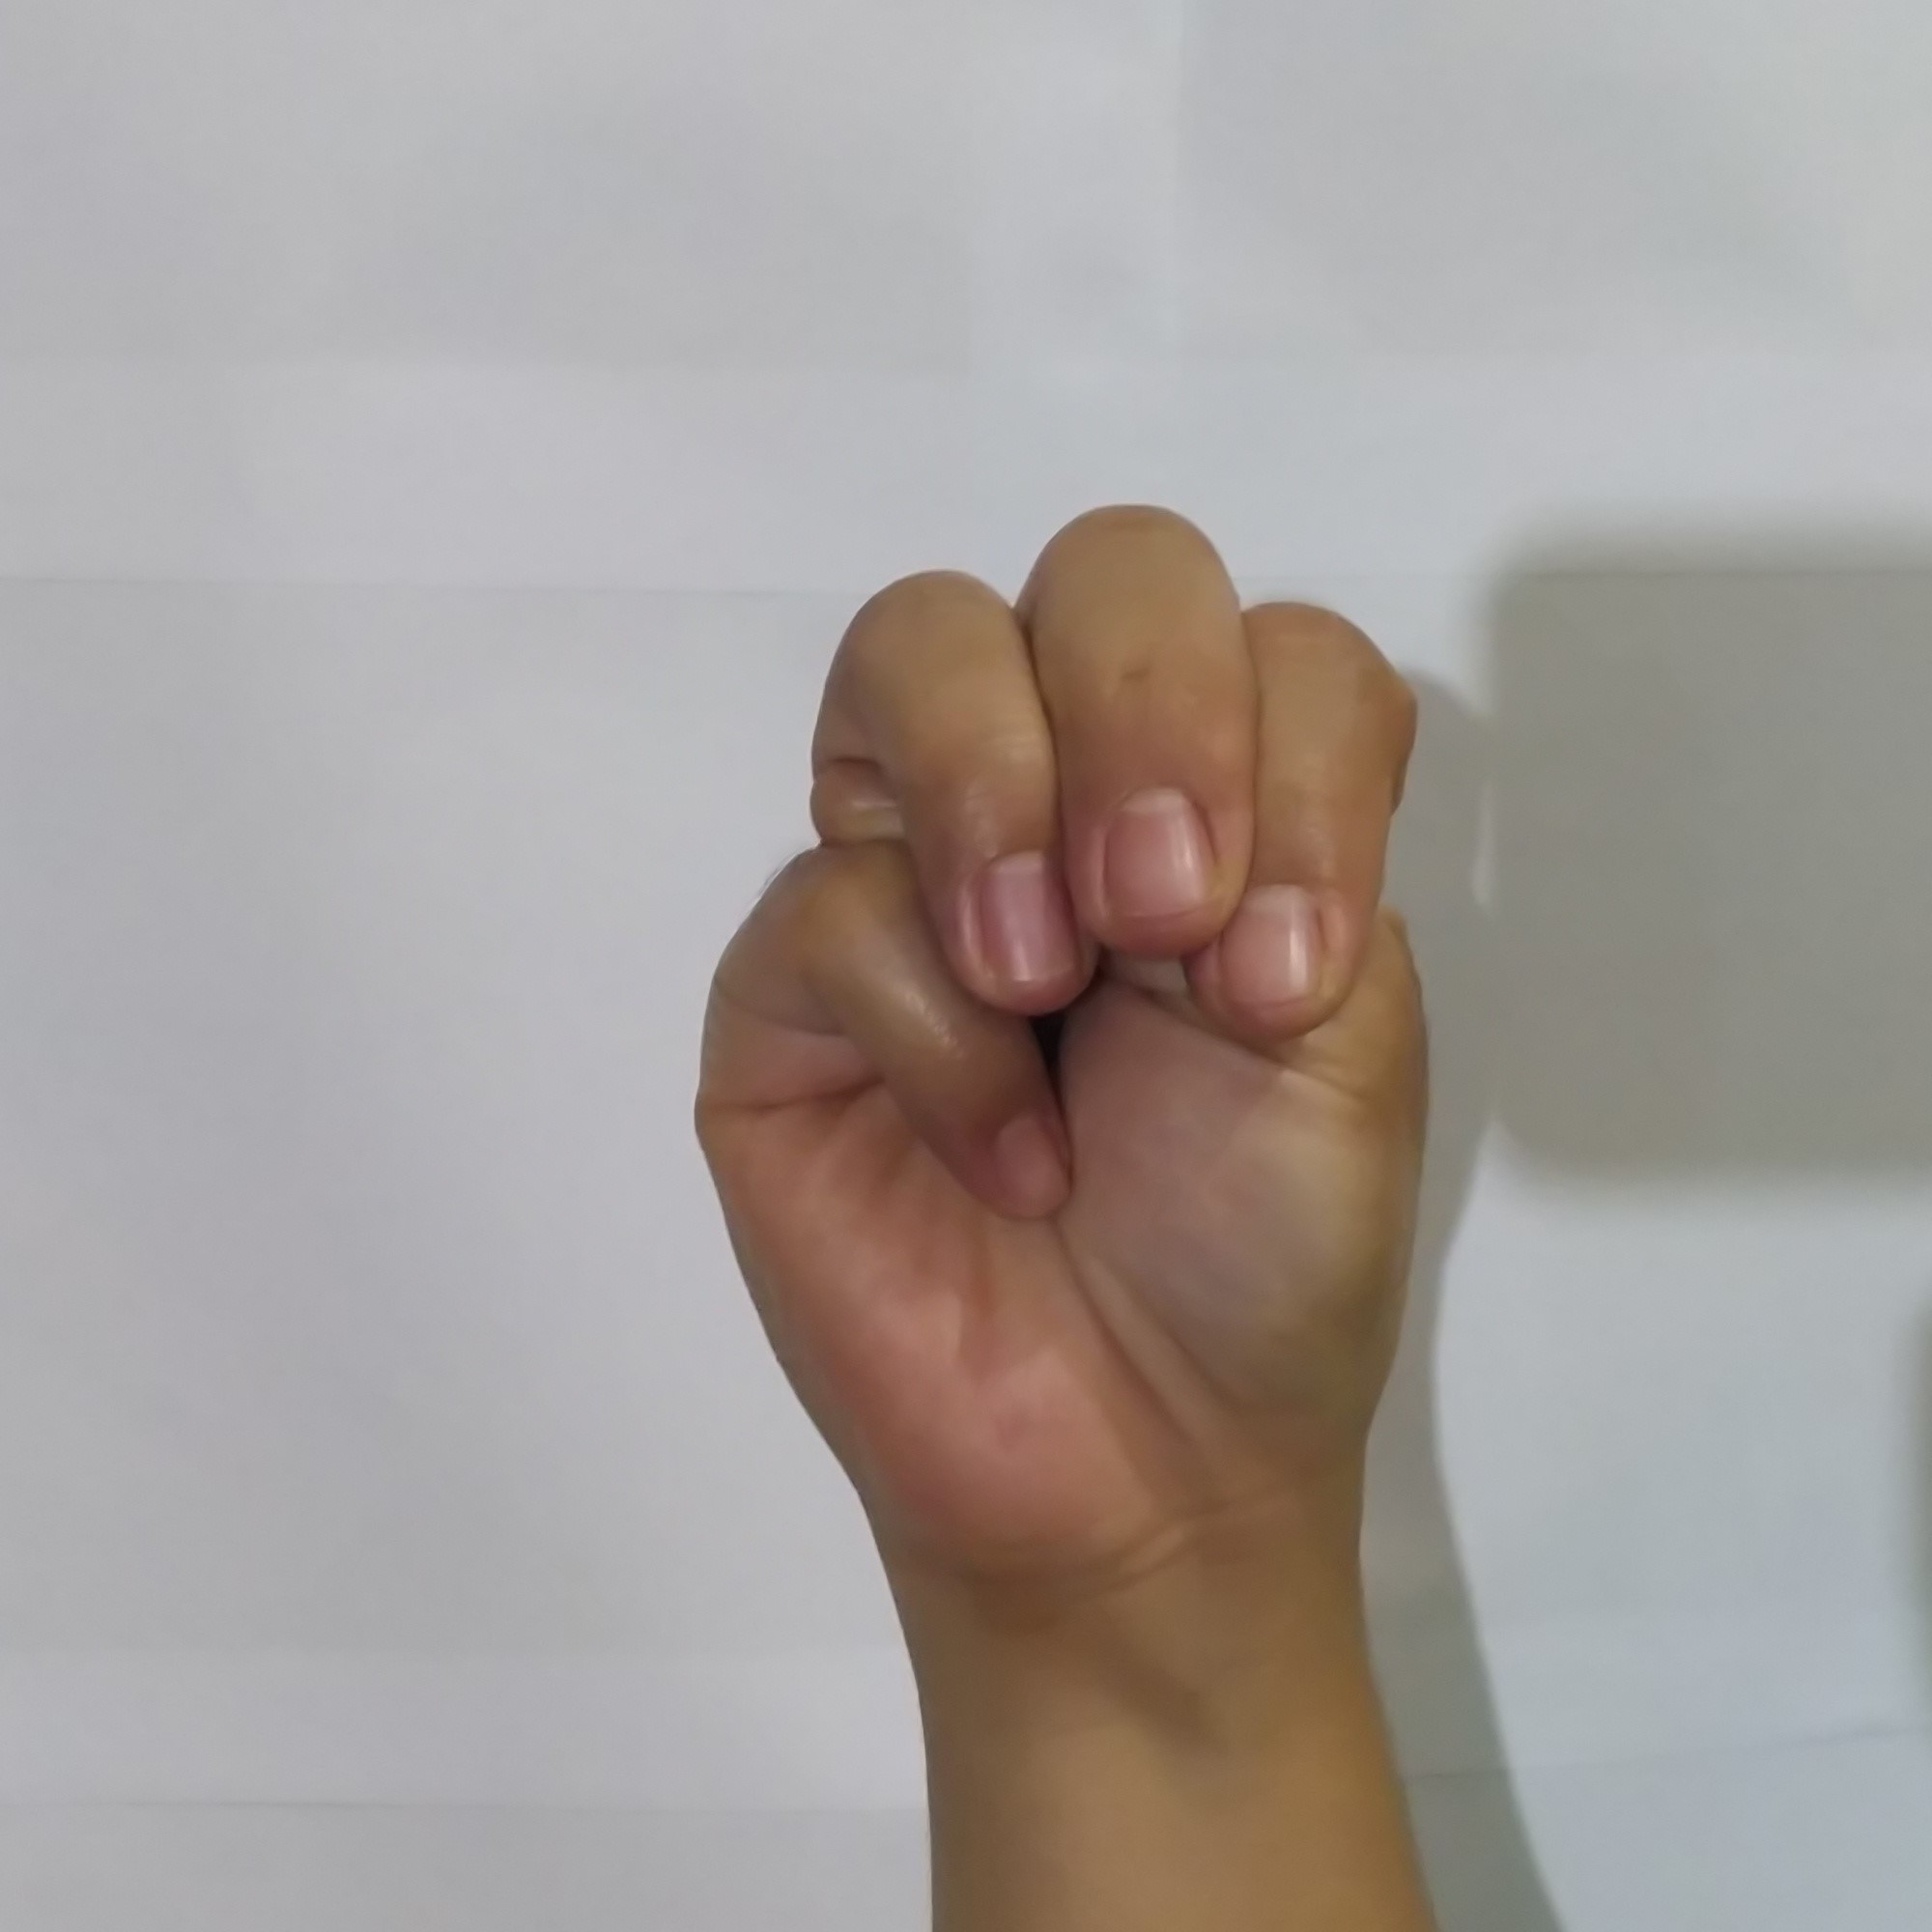M: (658, 476, 1461, 1530)
